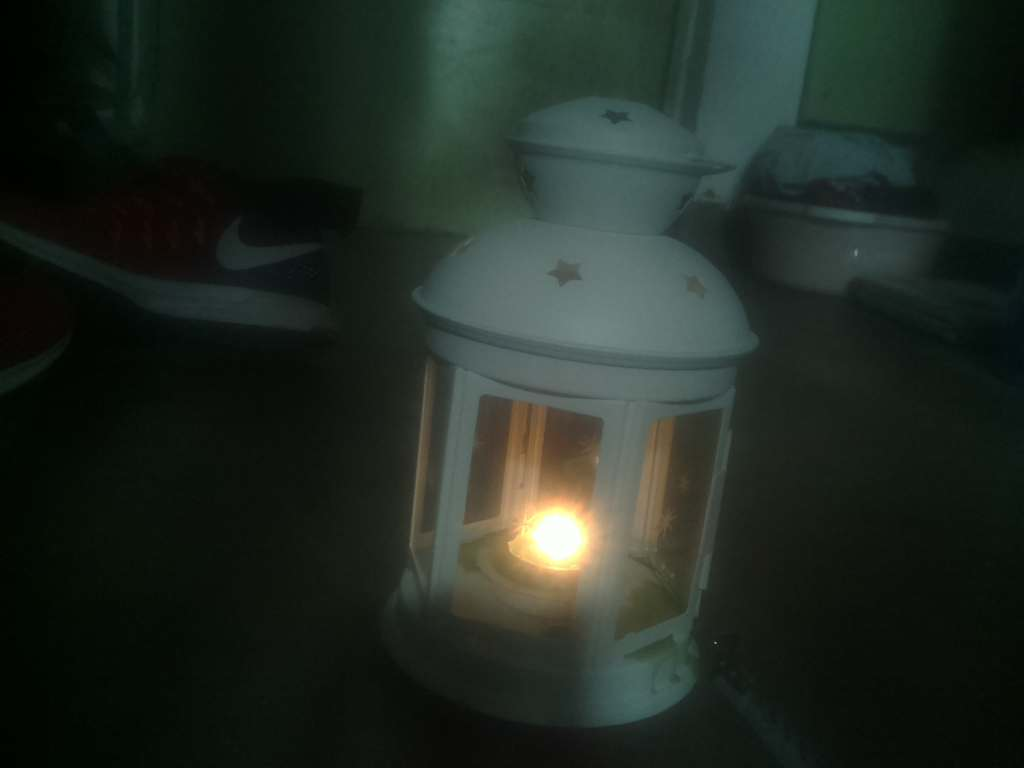fire: (496, 497, 629, 599)
